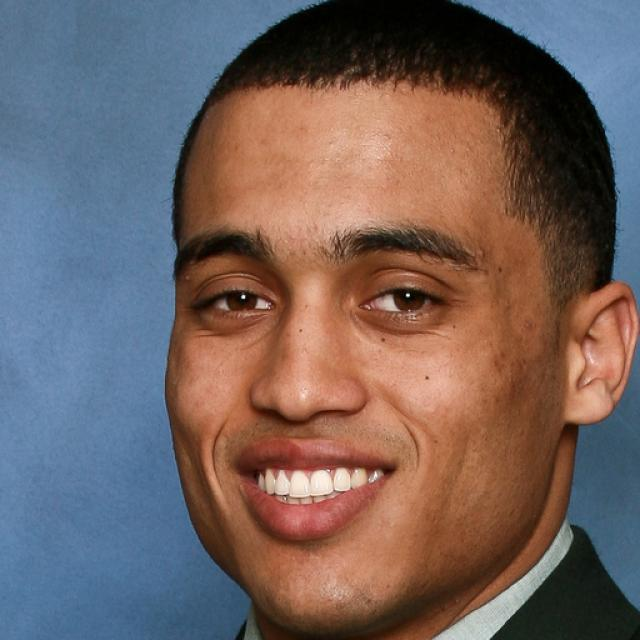Acne: (469, 243, 497, 265), (174, 273, 192, 286)
Pigmentation: (489, 345, 535, 407)
